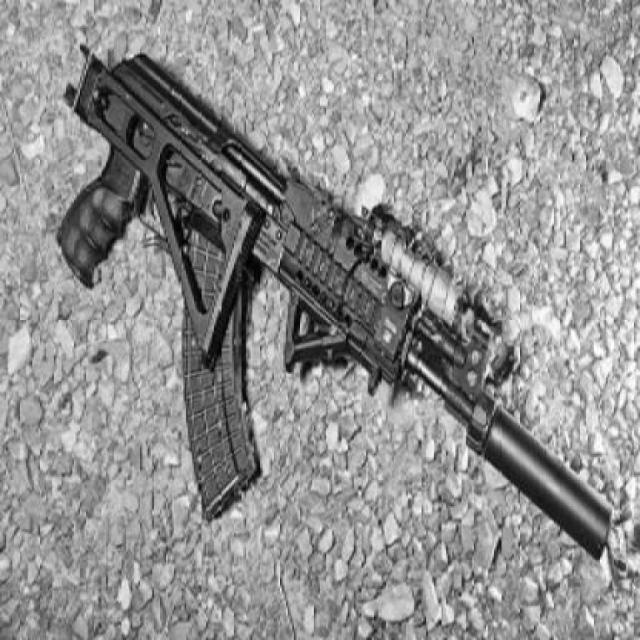weapon: (54, 44, 614, 562)
